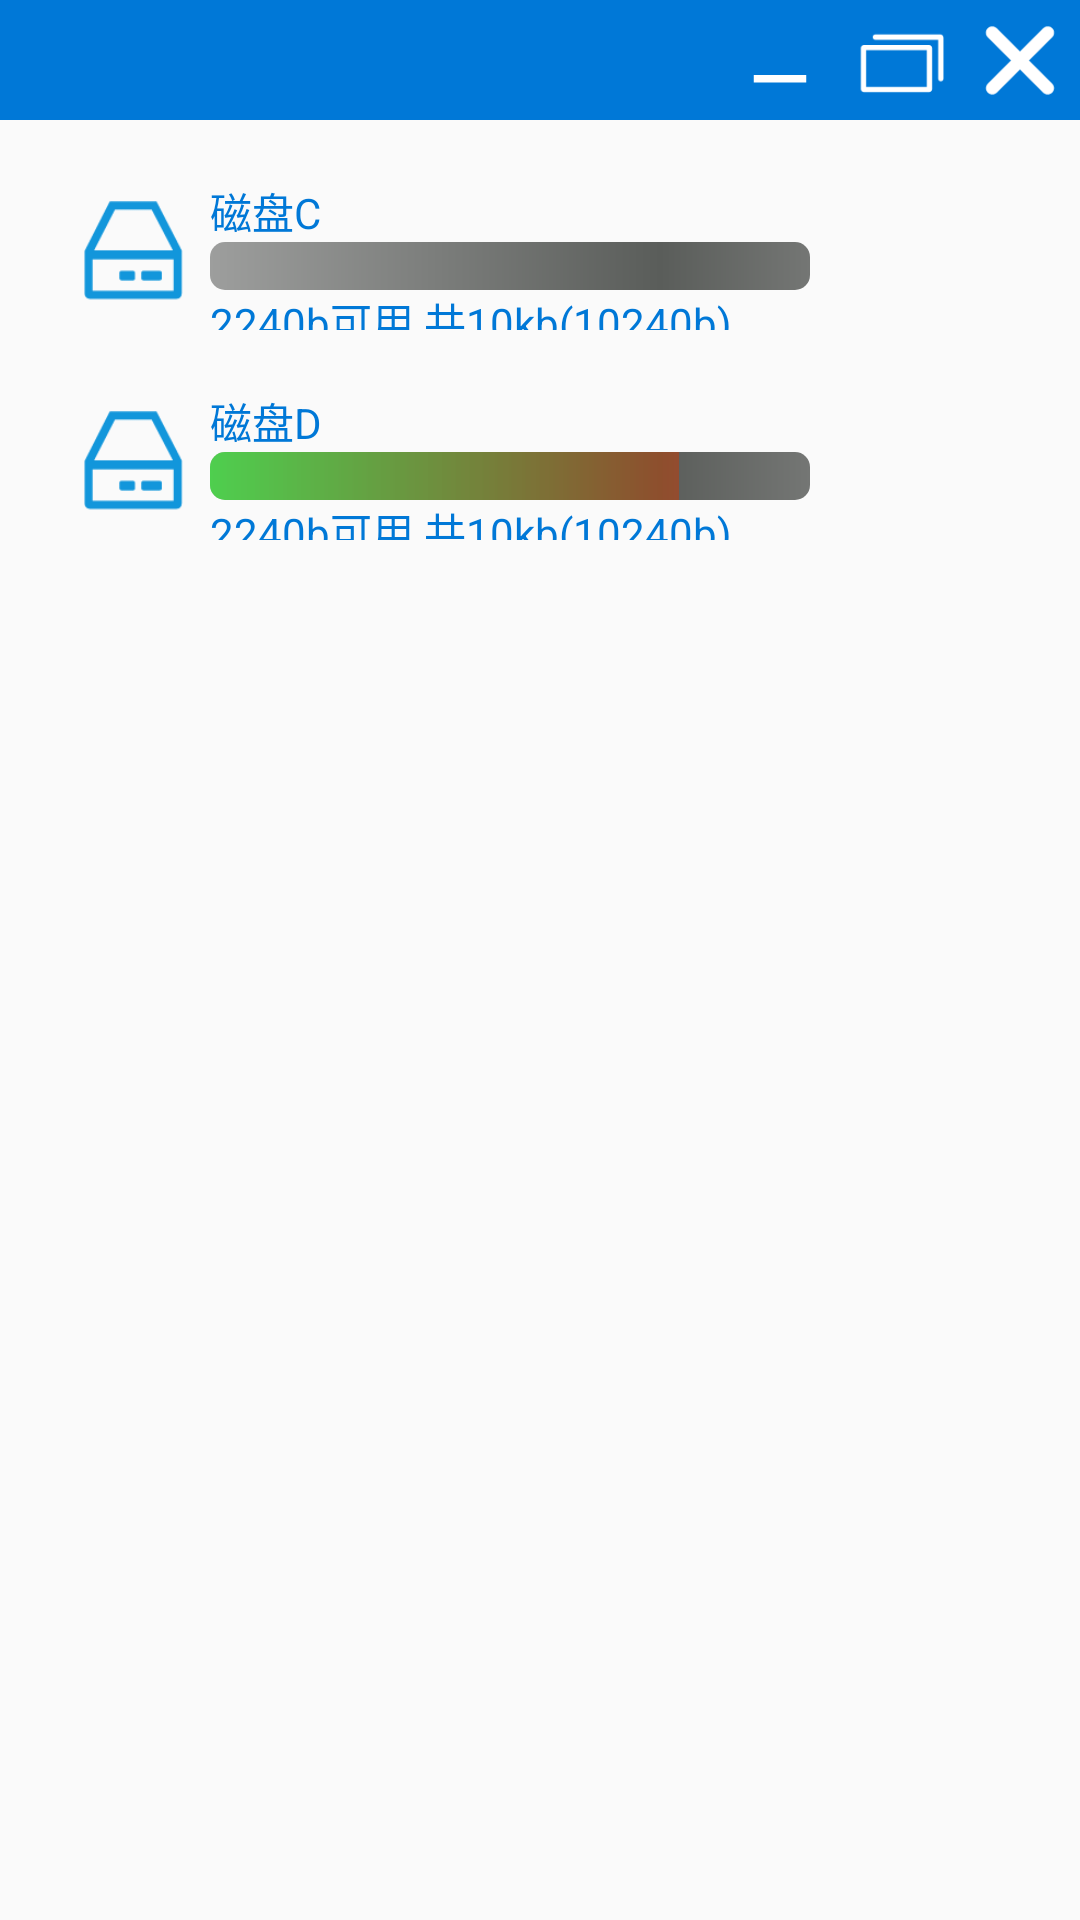

Screen size 1080px×1920px. Icon name, then its center in pixels as (x=x, y=y):
close: (x=1020, y=60)
max: (x=902, y=63)
